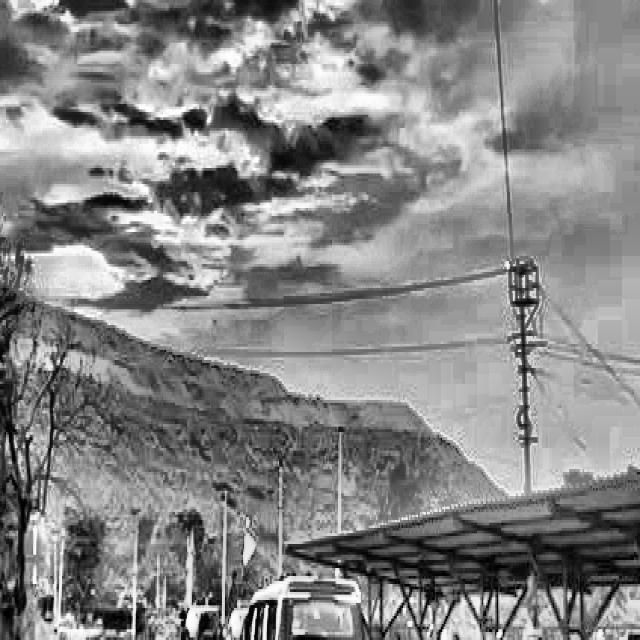light_vehicle: (220, 573, 376, 640)
